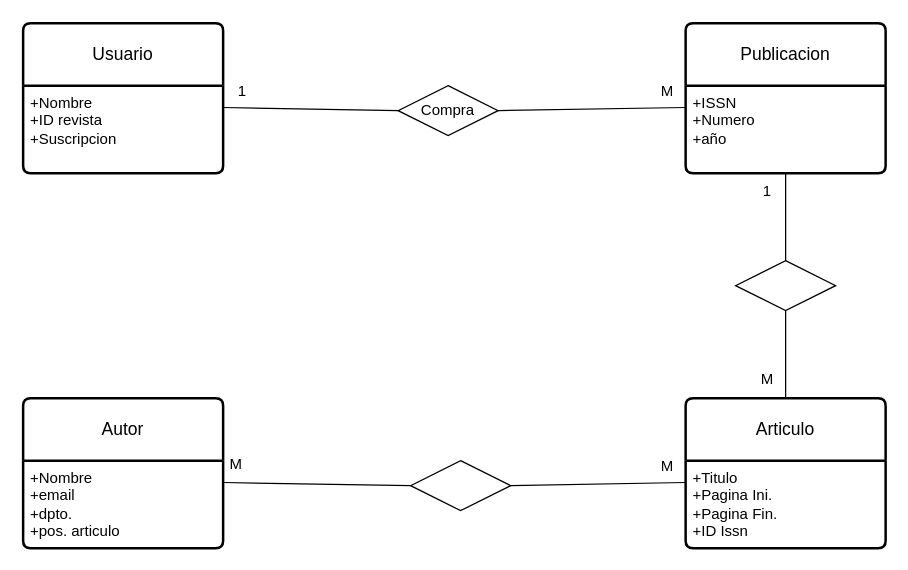
Image size: 908x570. Some labels were removed from this diagram. The shapes that lost their labels are listed below. From the top down, each one's box as (x1, y1, x2, y2) in pixels, then its label:
(734, 259, 836, 311): tiene
(409, 459, 511, 511): Escribe
